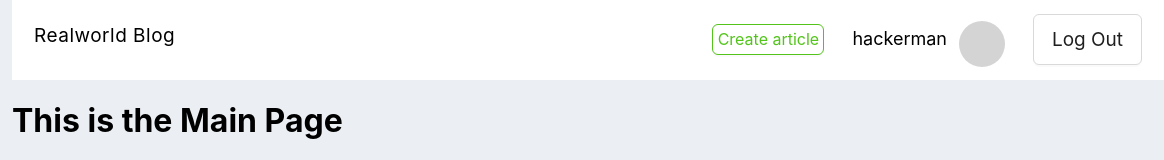
Test: Component: Header › should redirect to the Profile Page when profile button is clicked
Expected: the heading "This is the Main Page" is shown, [12,101,343,140]
Click the link "hackerman": (900, 39) [852,25,947,53]
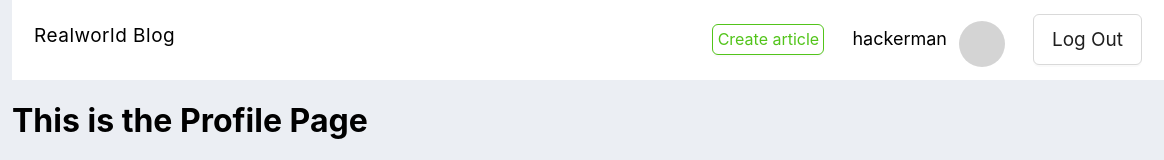
Now the heading "This is the Profile Page" is shown, box [12,101,368,140]
